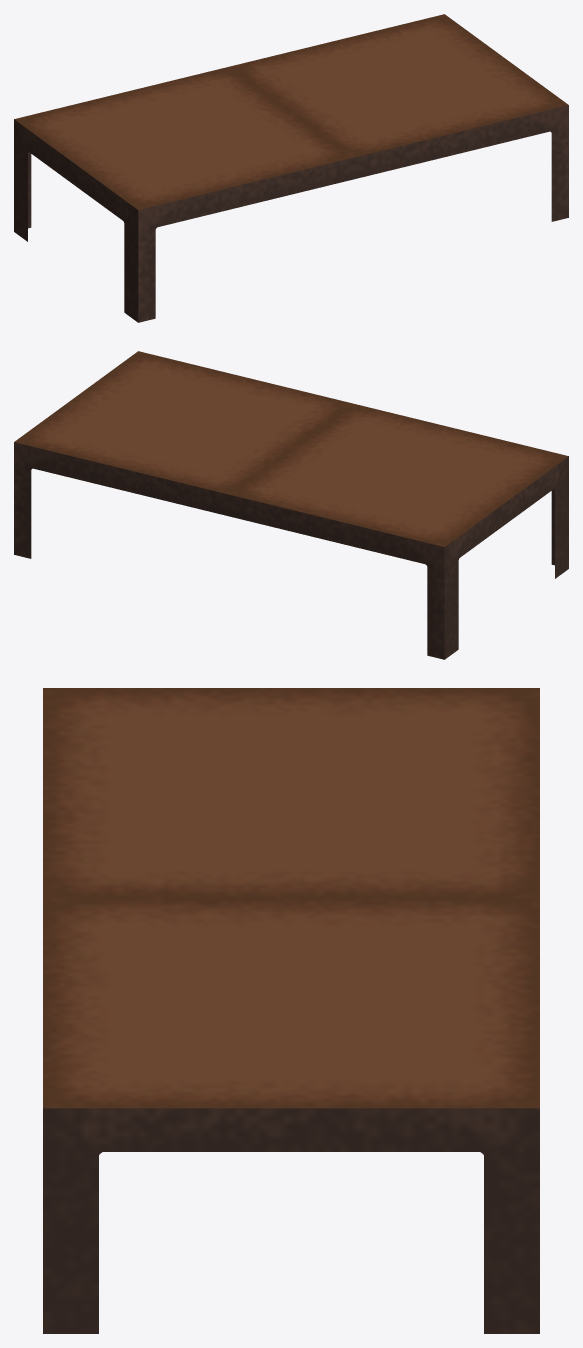
File: table.dae
3 renders of one model, top to bottom at view 1: azimuth 30°, elevation 25°; view 2: azimuth 150°, elevation 25°; view 3: azimuth 270°, elevation 25°, orthographic. The views are drawn at different scales.
Visible parts, largest first — view 1: Cube; view 2: Cube; view 3: Cube.
Part boxes in pixels (x1,y1,x2,y2): Cube: [14, 14, 568, 322]; Cube: [14, 351, 568, 659]; Cube: [43, 688, 539, 1333].
Bounding box in the file's own units: 3.88 × 1.94 × 0.9688.
Materials: 1 (1 with a texture image).
